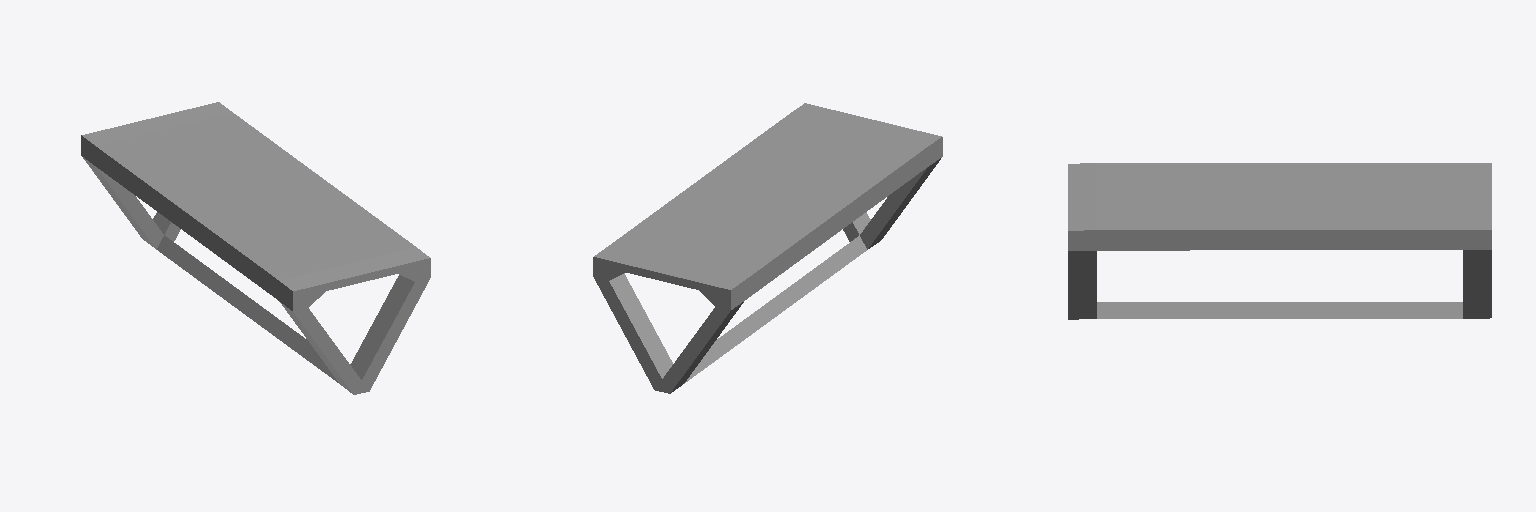
The model's file is bridge0.obj.
3 views of the same model, side by side, from view 1: azimuth 30°, elevation 25°; view 2: azimuth 150°, elevation 25°; view 3: azimuth 270°, elevation 25° (orthographic).
Visible parts, largest first — view 1: Cube.045; view 2: Cube.045; view 3: Cube.045.
Boxes of the visible parts, box(x1,y1,x2,y2) form: Cube.045: box(81, 102, 430, 394); Cube.045: box(593, 103, 942, 393); Cube.045: box(1068, 163, 1491, 319).
Size of the model in its own units: 120 by 100 by 320.